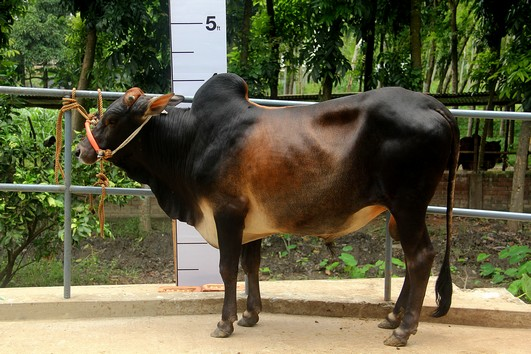cow: (64, 69, 466, 352)
